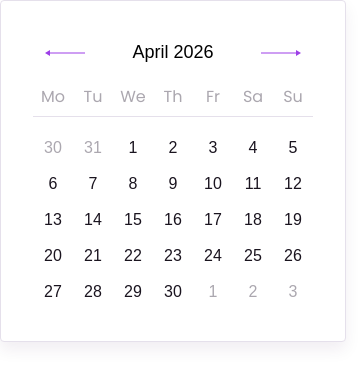
it: calendar › thao tác › di chuyển › Nếu đang hiển thị bảng chọn tháng, click button prev sẽ hiển thị các tháng của năm trước
Click the button with aria-label "Chọn tháng".
click(173, 53)  # box [124, 33, 222, 73]
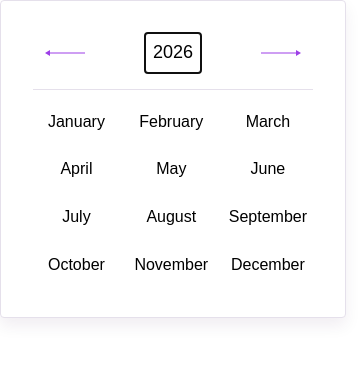
Click the button named "Năm trước".
click(65, 53)  # box [33, 38, 97, 68]
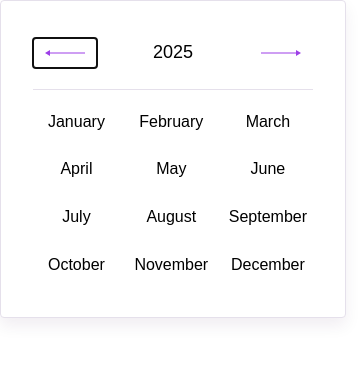
Expected: the button named "Chọn năm" reads "2025", [145, 33, 201, 73]
